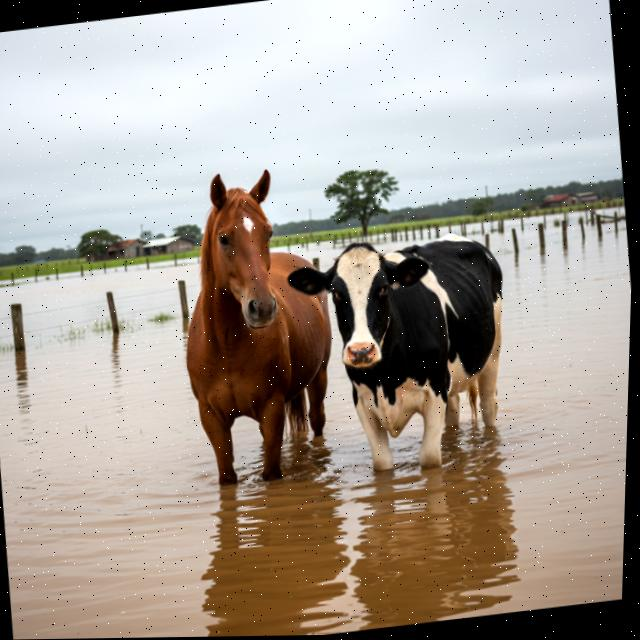cow: (273, 211, 535, 495)
horse: (151, 150, 356, 505)
